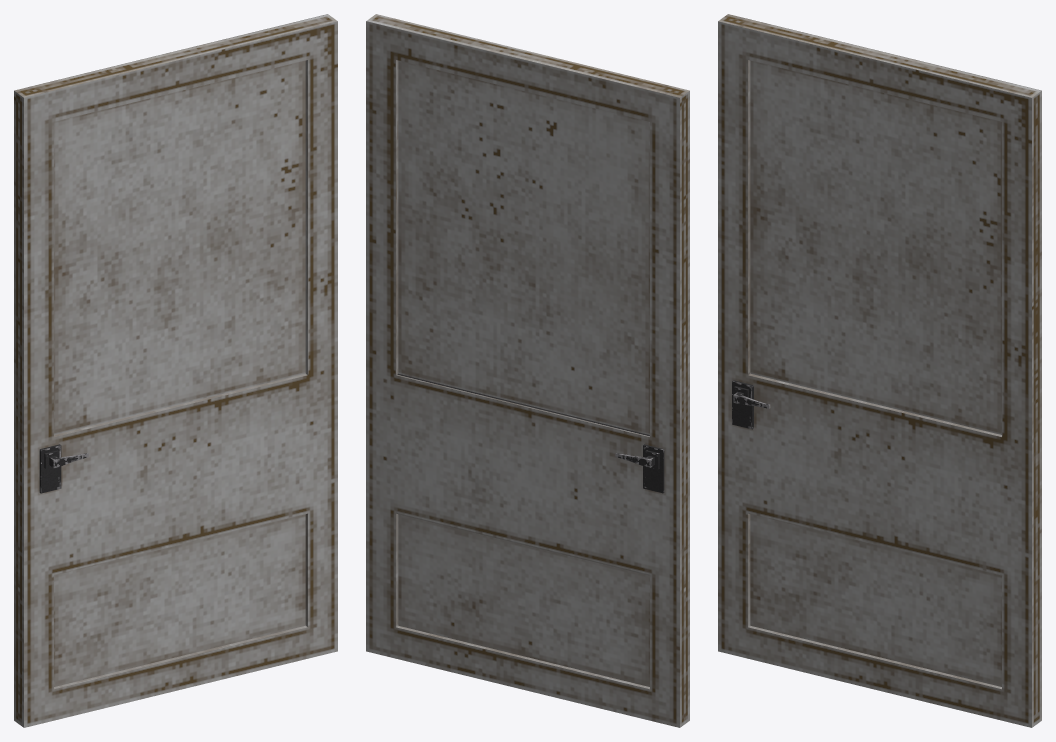
File: Door.fbx
3 views of the same model, side by side, from view 1: azimuth 30°, elevation 25°; view 2: azimuth 150°, elevation 25°; view 3: azimuth 330°, elevation 25° (orthographic).
Visible parts, largest first — view 1: Door; view 2: Door; view 3: Door.
Boxes of the visible parts, <box> form: Door: <box>14,14,337,727</box>; Door: <box>366,14,689,727</box>; Door: <box>718,14,1041,727</box>.
Bounding box in the file's own units: 13.04 × 98 × 188.
